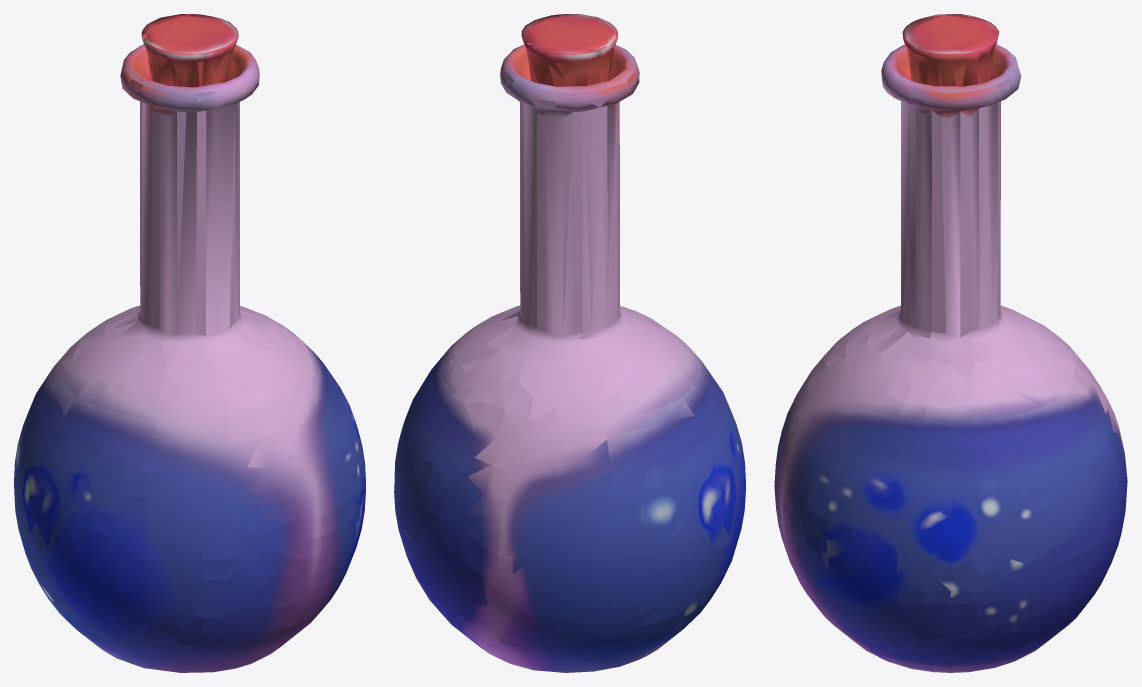
File: PoisonAzul.obj
The picture shows the model from 3 angles, left to right: view 1: azimuth 30°, elevation 25°; view 2: azimuth 150°, elevation 25°; view 3: azimuth 270°, elevation 25°; orthographic projection.
Parts seen in each view (by area): view 1: tripo_node_0a244f7d-be21-4ea4-a9d7-ccb9c7ede196; view 2: tripo_node_0a244f7d-be21-4ea4-a9d7-ccb9c7ede196; view 3: tripo_node_0a244f7d-be21-4ea4-a9d7-ccb9c7ede196.
Boxes of the visible parts, left/top/right/bottom form: tripo_node_0a244f7d-be21-4ea4-a9d7-ccb9c7ede196: left=14, top=14, right=365, bottom=672; tripo_node_0a244f7d-be21-4ea4-a9d7-ccb9c7ede196: left=394, top=14, right=745, bottom=672; tripo_node_0a244f7d-be21-4ea4-a9d7-ccb9c7ede196: left=774, top=14, right=1127, bottom=672.
Size of the model in its own units: 0.5285 by 1 by 0.5287.
Materials: 1 (1 with a texture image).
